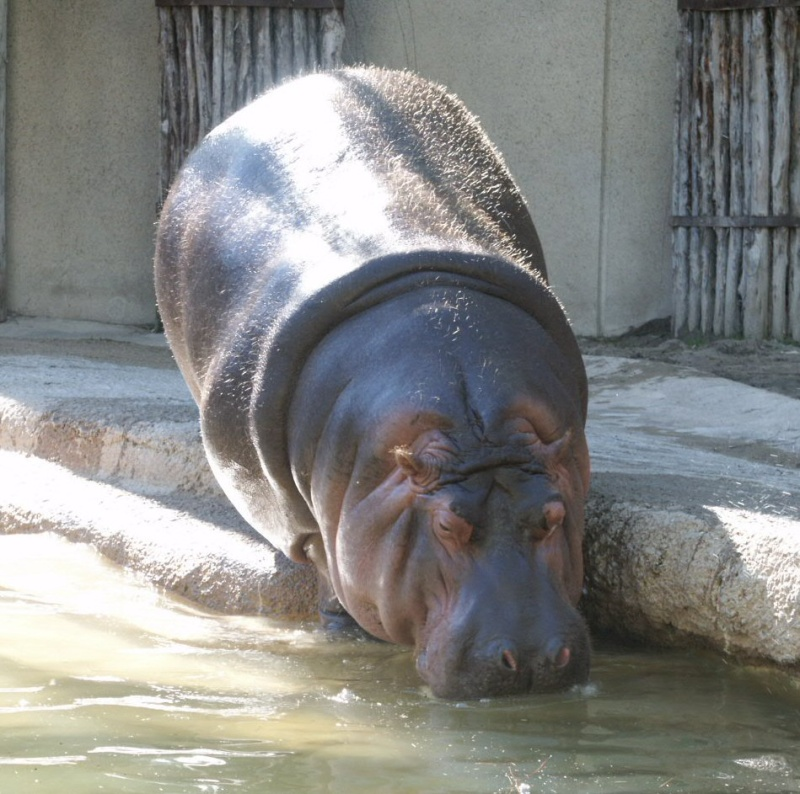hipopotamo: (152, 60, 612, 707)
